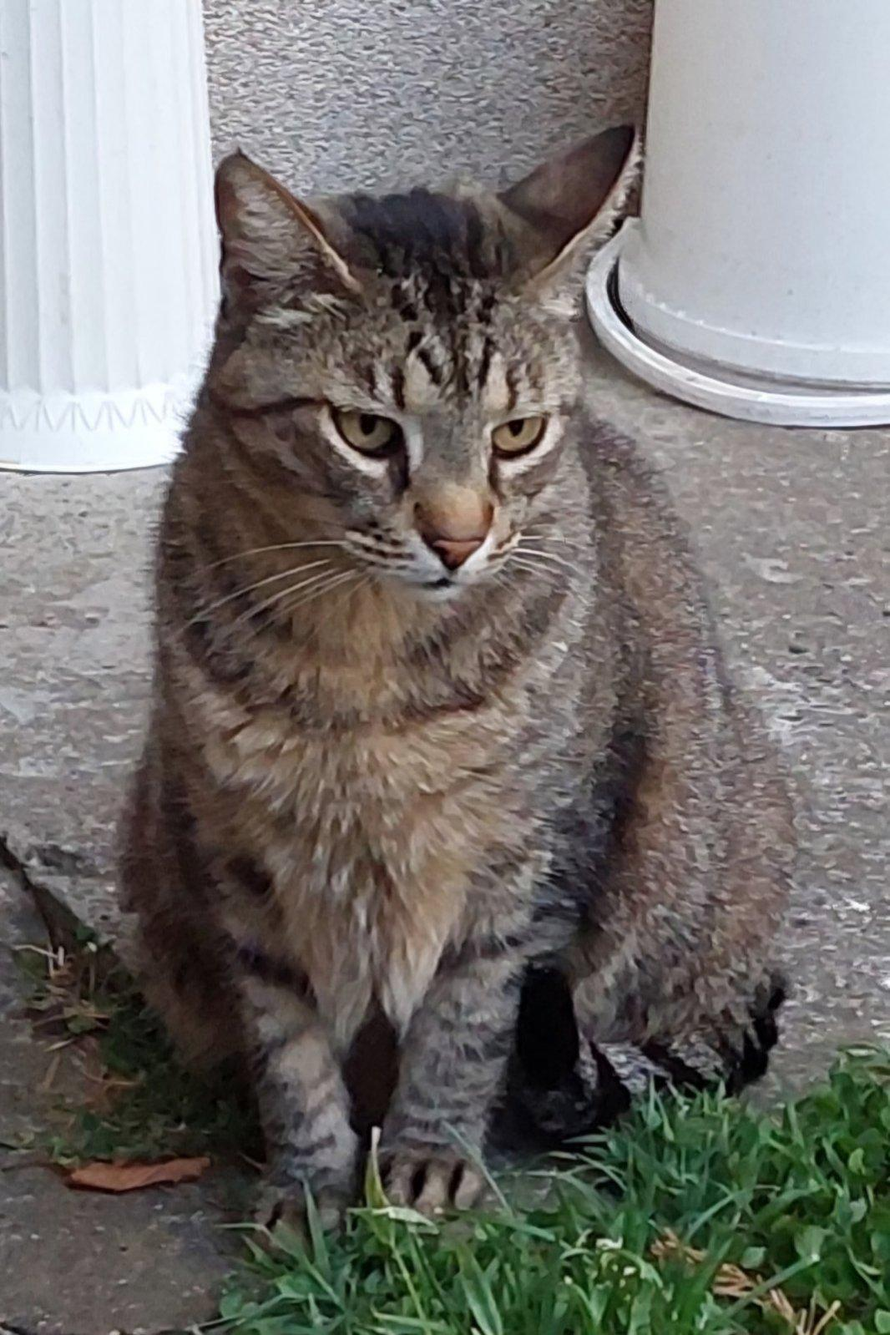macka: (120, 119, 798, 1255)
